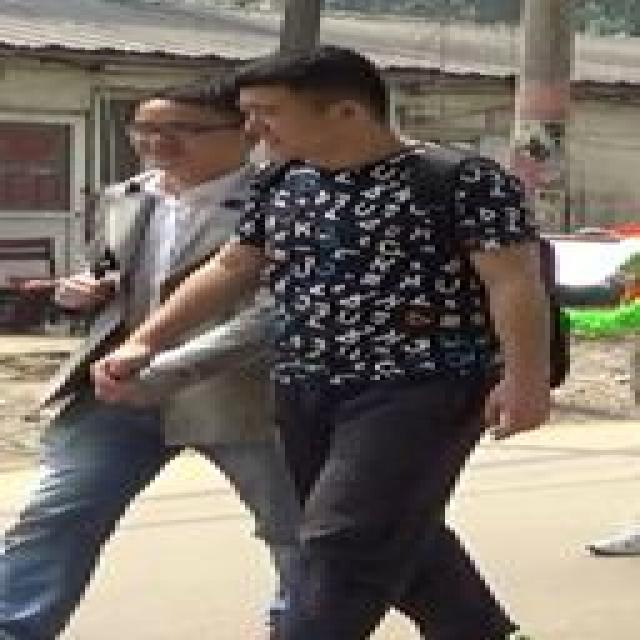adult: (216, 47, 566, 640), (0, 78, 256, 640)
